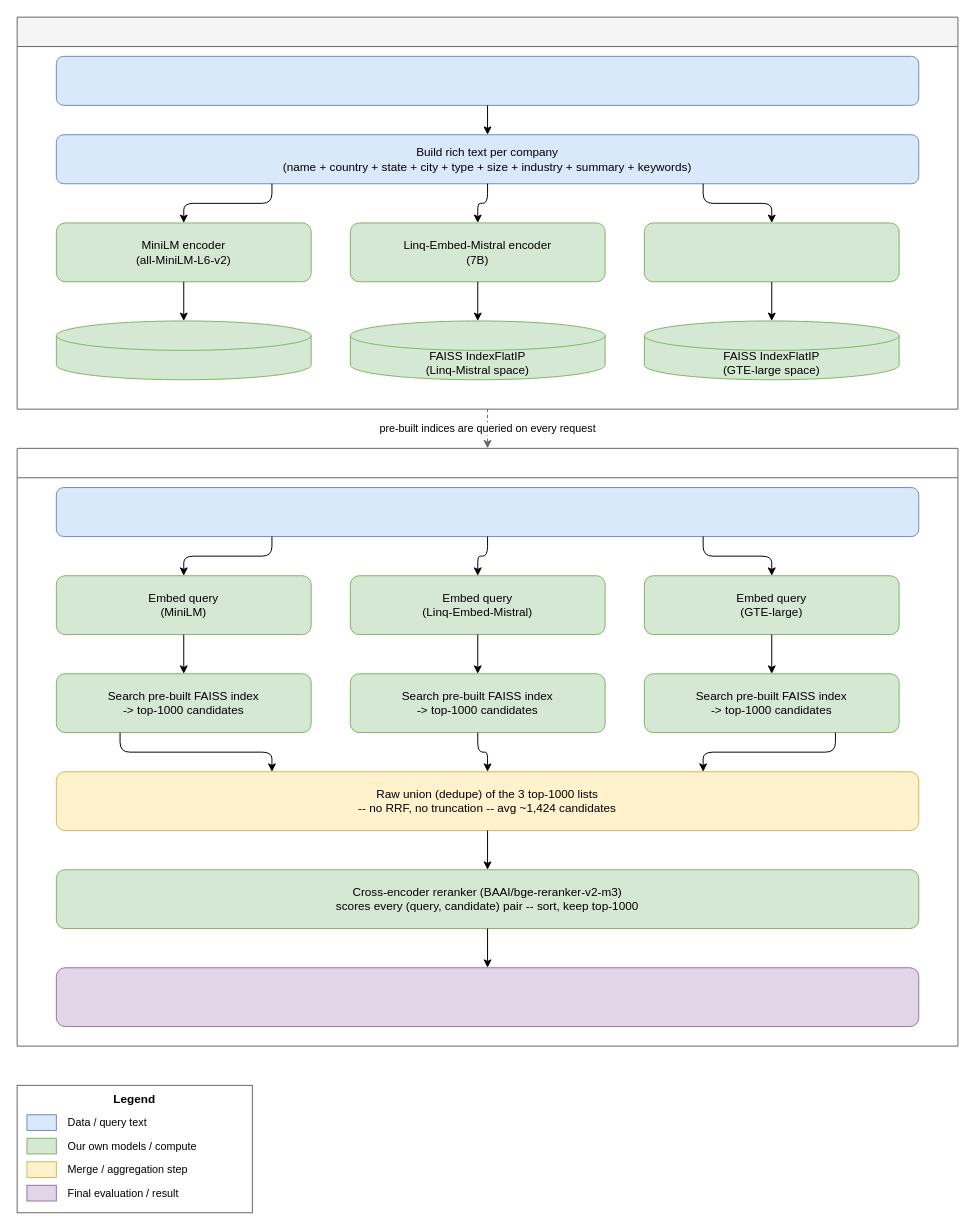
This 975x1230 diagram has some shape labels left out. The box of each missing label's shape, as (x1, y1, x2, y2) in pixels:
98,716 companies (production_results.xlsx): (55, 55, 919, 105)
Evaluate vs ground truth Recall@1000 = 0.804 | NDCG@10 = 0.955: (55, 967, 919, 1027)
FAISS IndexFlatIP (MiniLM space): (55, 320, 311, 380)
GTE-large encoder: (643, 222, 899, 282)
OFFLINE -- corpus encoding & index building (done once): (16, 16, 958, 409)
ONLINE -- per query, at request time: (16, 447, 958, 1046)
Query text (e.g. "software companies"): (55, 487, 919, 537)
